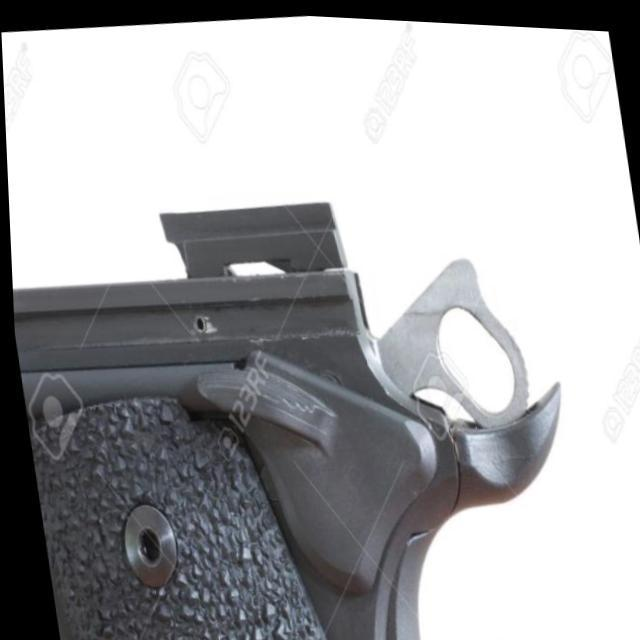weapon: (6, 161, 594, 640)
